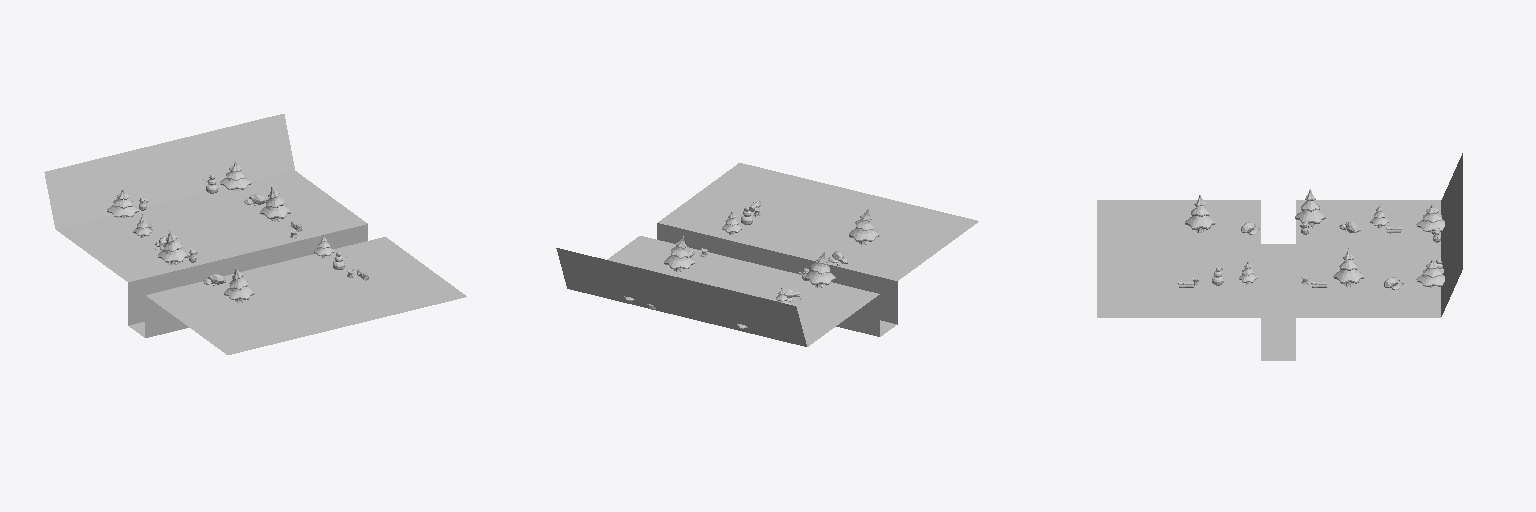
The model's file is escenario_nieve_2.obj.
The picture shows the model from 3 angles: view 1: azimuth 30°, elevation 25°; view 2: azimuth 150°, elevation 25°; view 3: azimuth 270°, elevation 25°; orthographic projection.
Visible parts, largest first — view 1: escenario_nieve suelo_nieve, escenario_nieve pino_ladeado1, escenario_nieve pino_ladeado3, escenario_nieve pino_ladeado2; view 2: escenario_nieve suelo_nieve, escenario_nieve pino_ladeado3, escenario_nieve pino_ladeado2, escenario_nieve pino_ladeado1; view 3: escenario_nieve suelo_nieve, escenario_nieve pino_ladeado1, escenario_nieve pino_ladeado3, escenario_nieve pino_ladeado2.
Boxes of the visible parts, x1,y1,x2,y2 form: escenario_nieve suelo_nieve: [44, 114, 466, 354]; escenario_nieve pino_ladeado1: [260, 187, 290, 221]; escenario_nieve pino_ladeado3: [224, 267, 254, 302]; escenario_nieve pino_ladeado2: [158, 230, 188, 265]; escenario_nieve suelo_nieve: [556, 163, 978, 346]; escenario_nieve pino_ladeado3: [849, 209, 879, 244]; escenario_nieve pino_ladeado2: [805, 252, 835, 287]; escenario_nieve pino_ladeado1: [664, 236, 694, 272]; escenario_nieve suelo_nieve: [1097, 153, 1462, 360]; escenario_nieve pino_ladeado1: [1333, 248, 1363, 287]; escenario_nieve pino_ladeado3: [1185, 195, 1215, 232]; escenario_nieve pino_ladeado2: [1295, 189, 1325, 227].
Size of the model in its own units: 1116 by 410 by 1476.